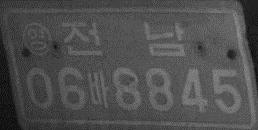0: (25, 65, 54, 110)
4: (180, 68, 207, 113)
5: (211, 67, 242, 115)
6: (56, 66, 86, 109)
8: (144, 66, 175, 111), (111, 66, 141, 111)
바: (87, 70, 110, 110)
영: (21, 21, 53, 56)
전남_D: (60, 20, 185, 57)
